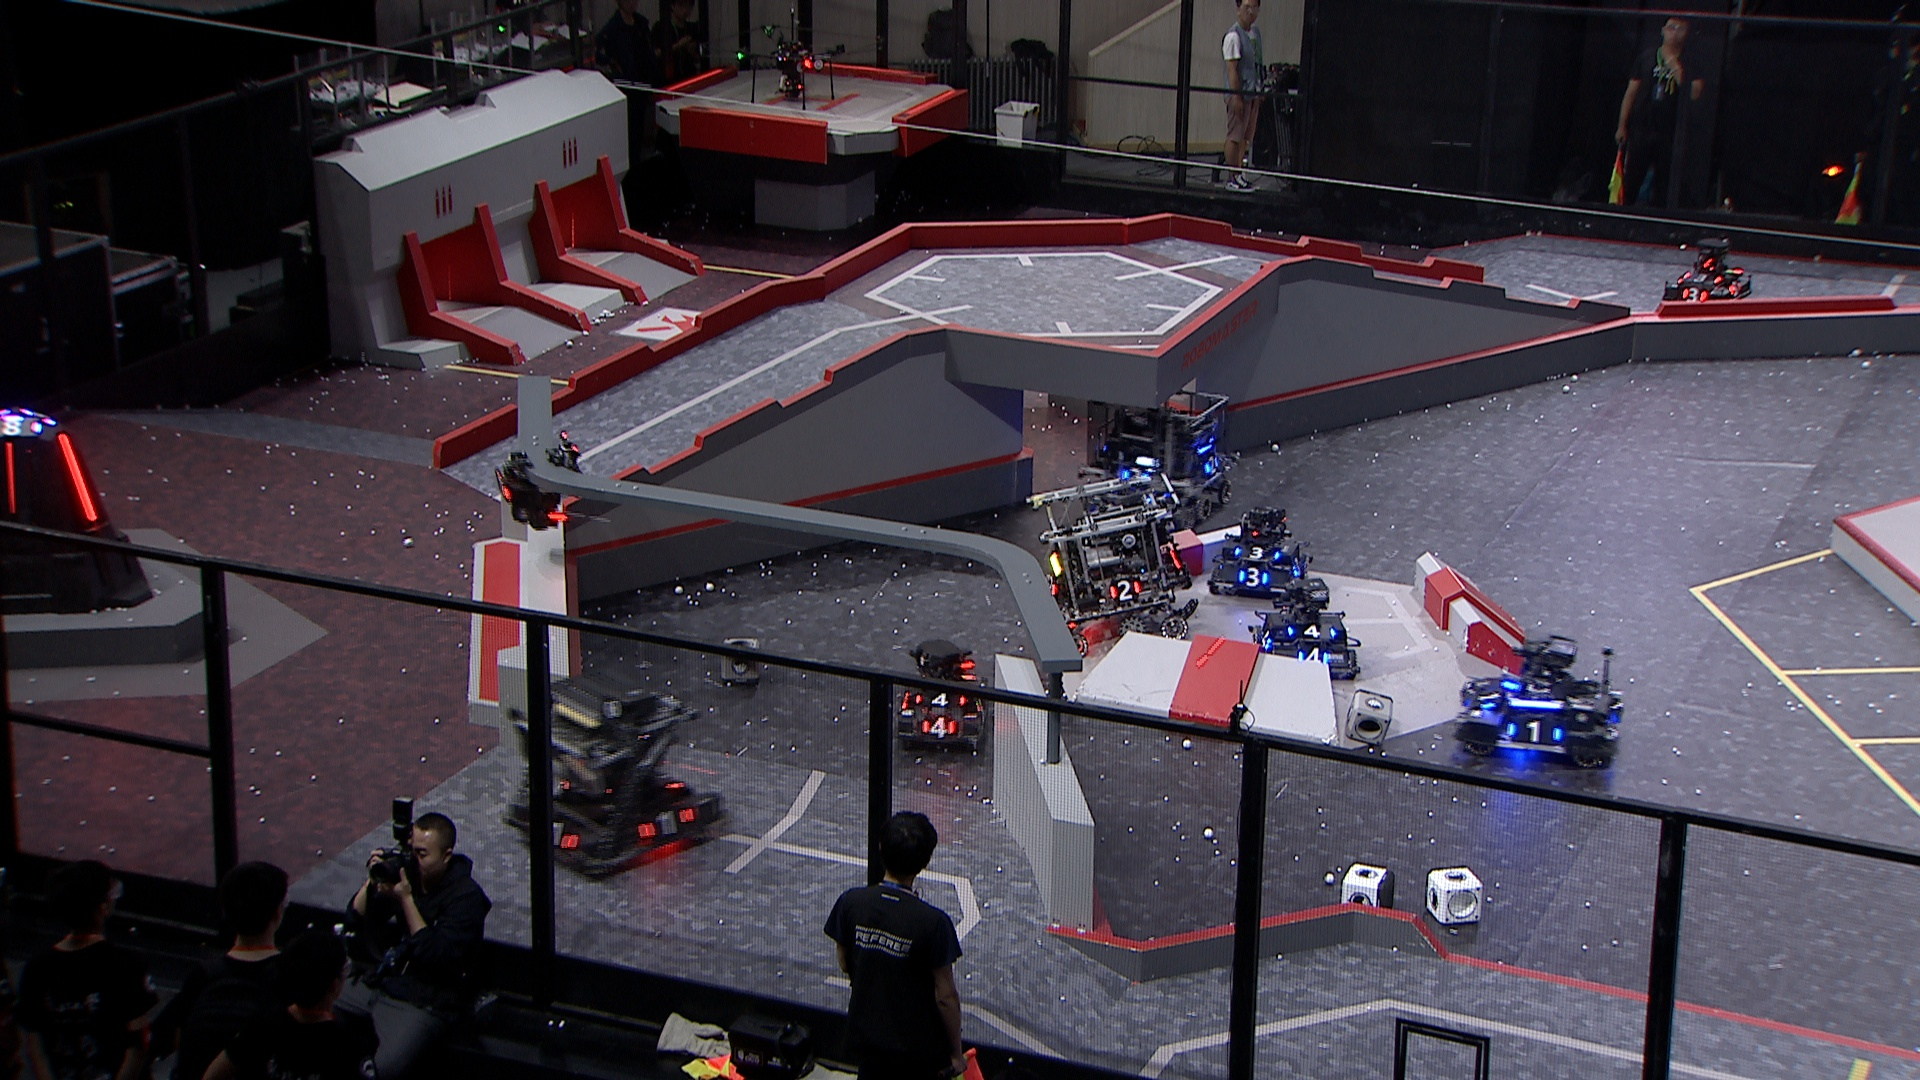armor: (53, 433, 105, 524), (636, 803, 698, 840), (1505, 717, 1565, 746), (910, 684, 968, 711), (542, 822, 582, 855), (1286, 618, 1338, 642), (916, 713, 959, 742), (1106, 574, 1145, 605), (3, 442, 17, 520), (1476, 680, 1509, 711), (1233, 542, 1282, 562), (491, 463, 513, 504), (1298, 646, 1332, 669), (1677, 285, 1714, 305), (1238, 564, 1269, 588), (1121, 465, 1153, 487), (1199, 454, 1225, 476), (1684, 268, 1721, 284), (1255, 626, 1278, 651), (1039, 571, 1060, 597), (1727, 273, 1746, 301), (1292, 556, 1305, 576)
car: (495, 673, 731, 880), (1025, 469, 1200, 657), (1079, 380, 1238, 526), (1453, 632, 1623, 767), (887, 636, 993, 754), (1247, 574, 1357, 680), (1207, 496, 1309, 593), (1662, 235, 1754, 305)
ignore: (0, 410, 47, 438)
watcher: (487, 429, 583, 533)
